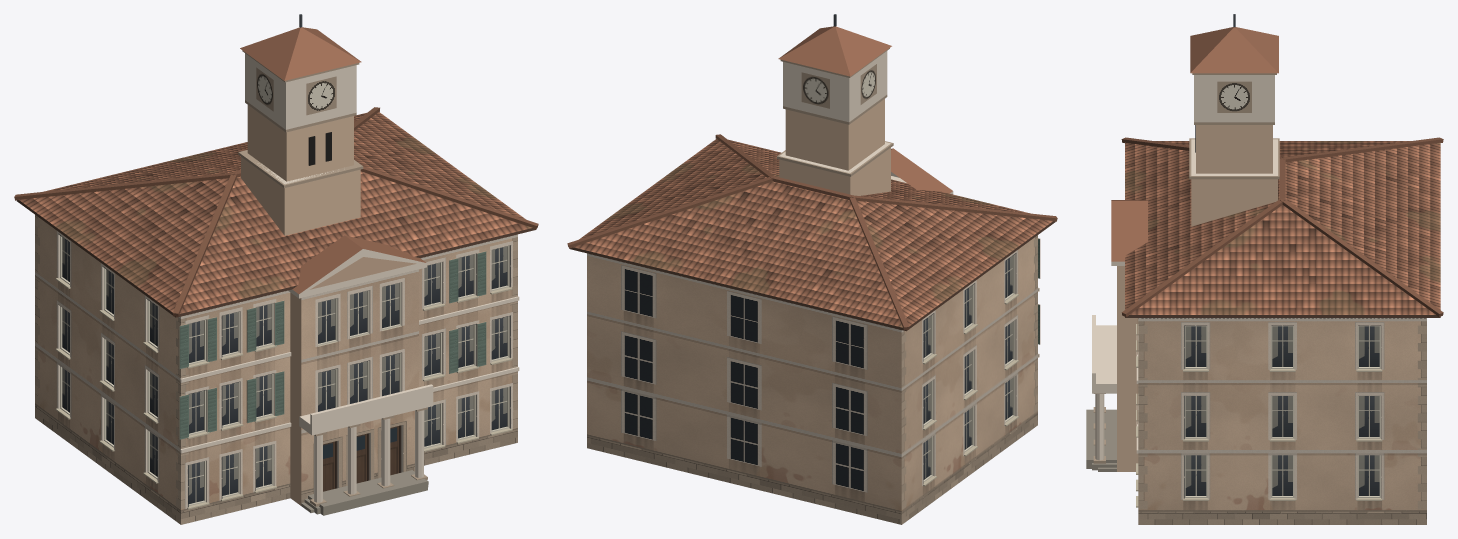
Rendered from hero_civic_c.glb.
3 views of the same model, side by side, from view 1: azimuth 30°, elevation 25°; view 2: azimuth 150°, elevation 25°; view 3: azimuth 270°, elevation 25° (orthographic). The views are drawn at different scales.
Visible parts, largest first — view 1: bld_hero_civic_c; view 2: bld_hero_civic_c; view 3: bld_hero_civic_c.
Boxes of the visible parts, x1,y1,x2,y2 form: bld_hero_civic_c: (14,14,538,524); bld_hero_civic_c: (567,14,1057,524); bld_hero_civic_c: (1086,14,1443,524).
Size of the model in its own units: 21.73 by 24.6 by 18.56.
Materials: 1 (1 with a texture image).
